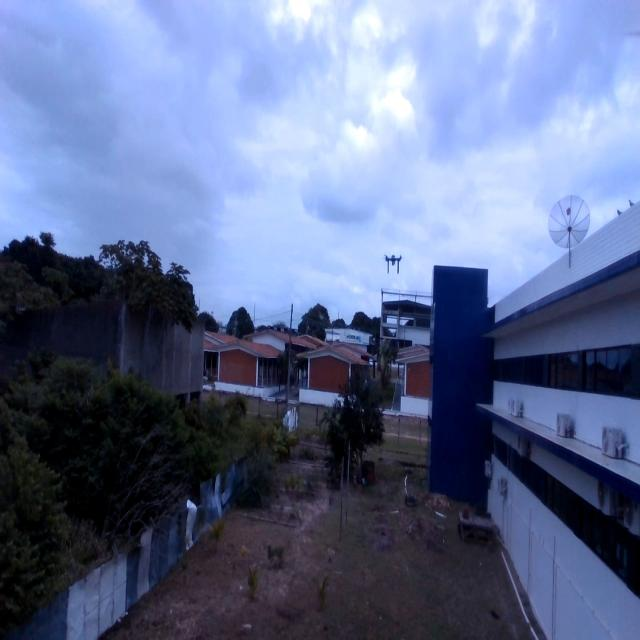-uav-: (377, 243, 408, 286)
